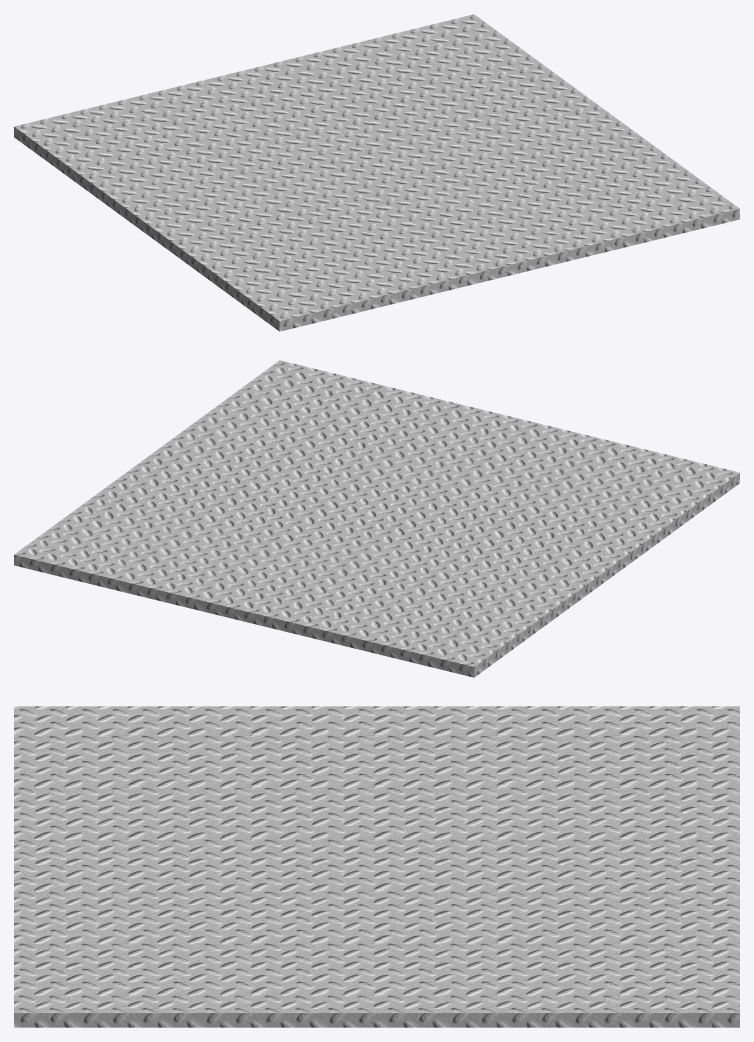
File: SteelPlate.dae
3 renders of one model, top to bottom at view 1: azimuth 30°, elevation 25°; view 2: azimuth 150°, elevation 25°; view 3: azimuth 270°, elevation 25°, orthographic. The views are drawn at different scales.
Visible parts, largest first — view 1: group_0; view 2: group_0; view 3: group_0.
Part boxes in pixels (x1=…): group_0: x1=14, y1=14, x2=739, y2=331; group_0: x1=14, y1=360, x2=739, y2=677; group_0: x1=14, y1=706, x2=739, y2=1027.
Size of the model in its own units: 35.43 by 35.43 by 0.7874.
Materials: 1 (1 with a texture image).
